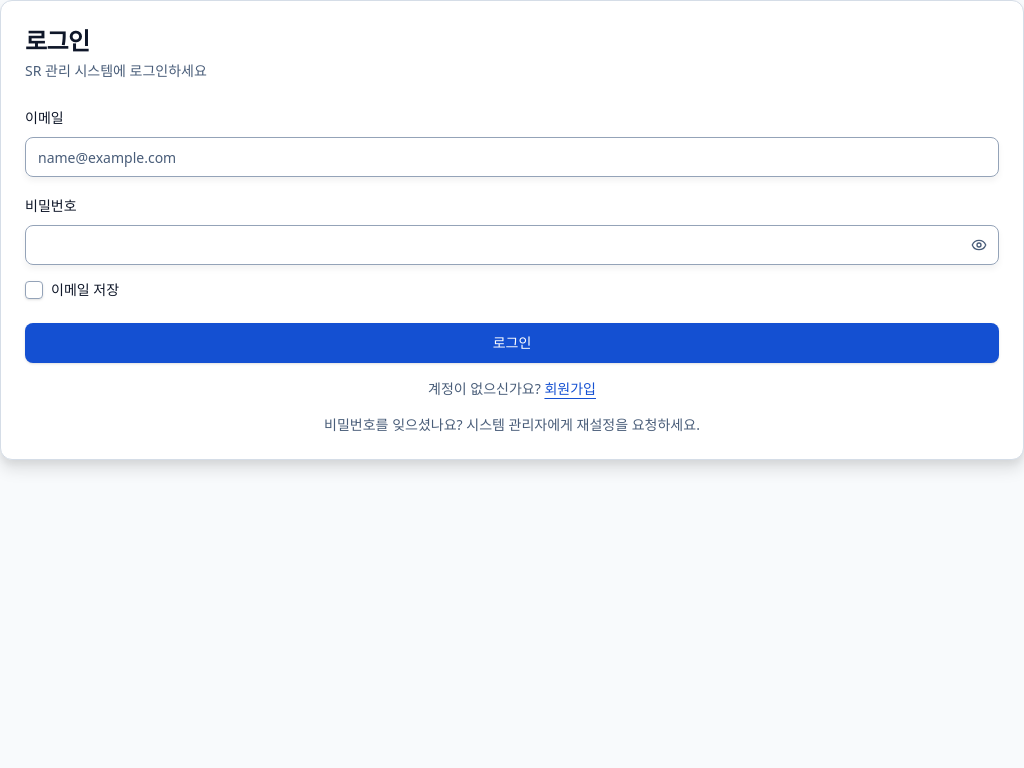
Test: LoginForm — 실패 처리 › signIn 이 예외를 던지면 일반 오류 문구를 띄우고 폼을 다시 쓸 수 있게 둔다
The image size is (1024, 768).
Step 1. Type "hong@example.com" into the field labelled "이메일" → (512, 157), box [25,137,999,177]
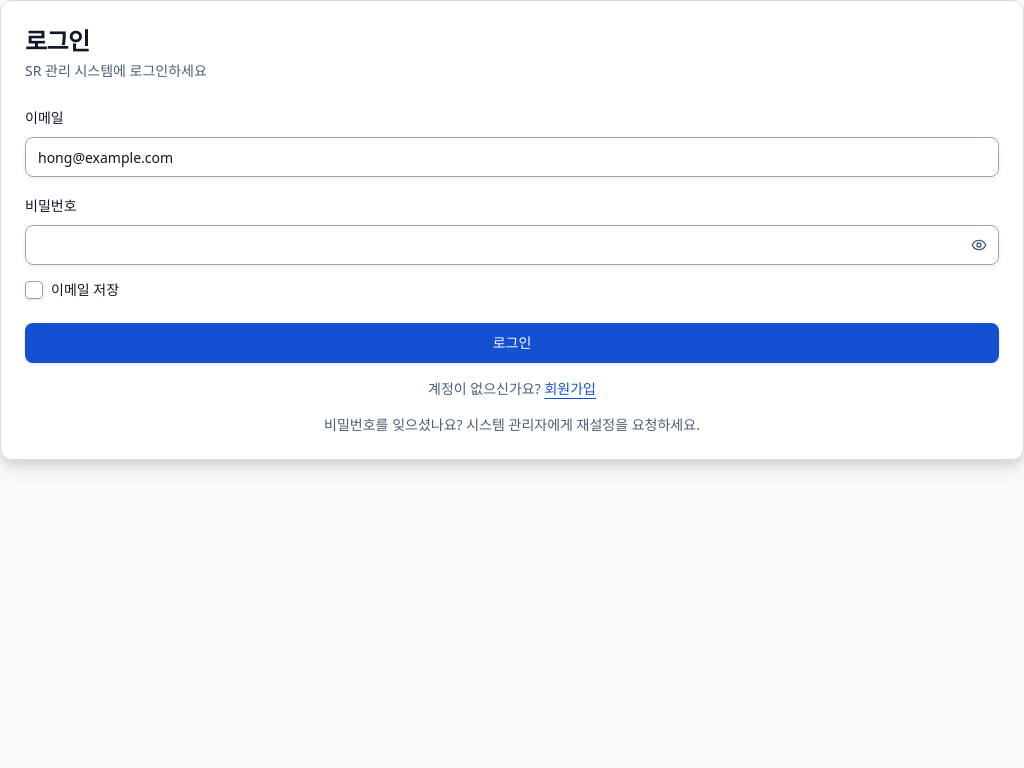
Step 2. Type "pw1234!" into the password field labelled "비밀번호" → (512, 245), box [25,225,999,265]
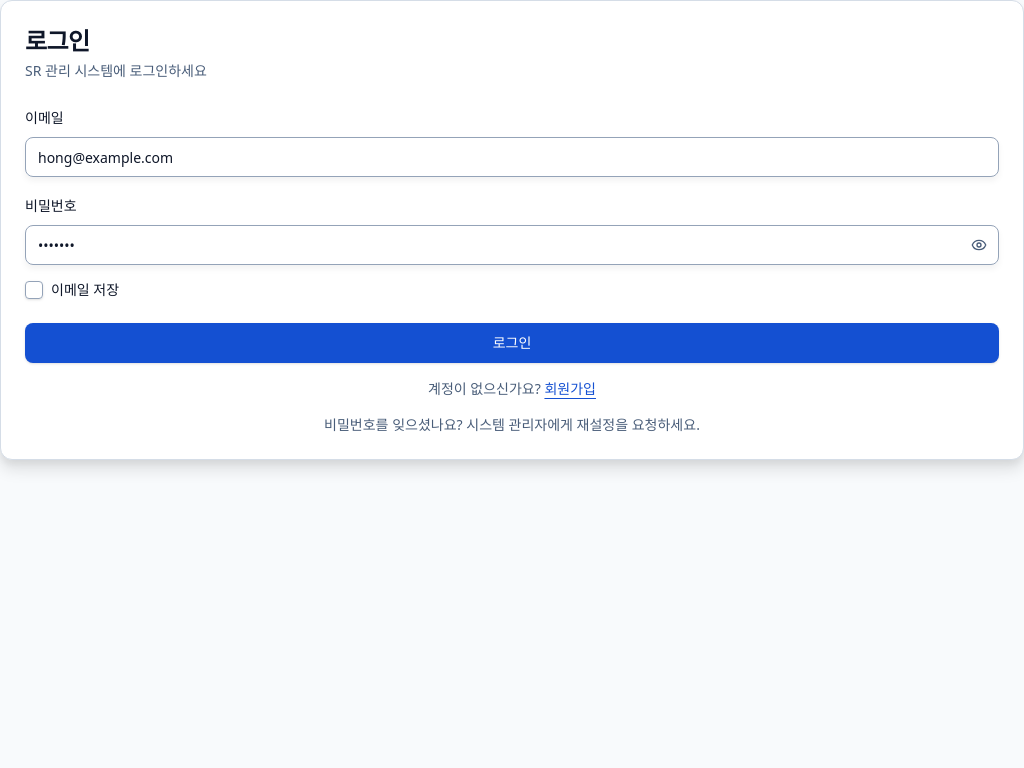
Step 3. Click the button "로그인" → (512, 343), box [25,323,999,363]
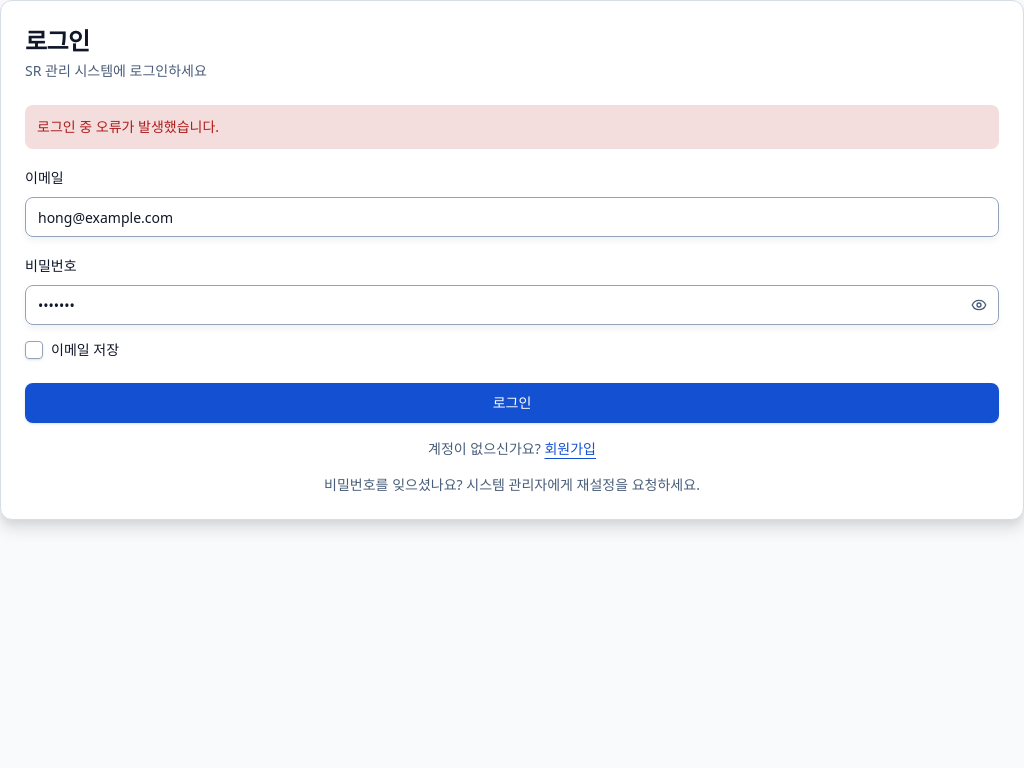
Expected: the button "로그인" is enabled, [25,383,999,423]
Expected: the message reads "로그인 중 오류가 발생했습니다.", [37,117,219,136]
